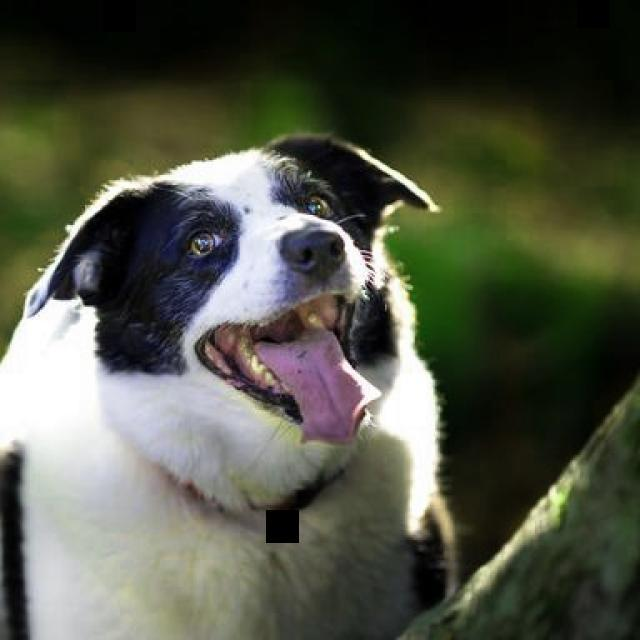adult_dog: (2, 129, 460, 639)
